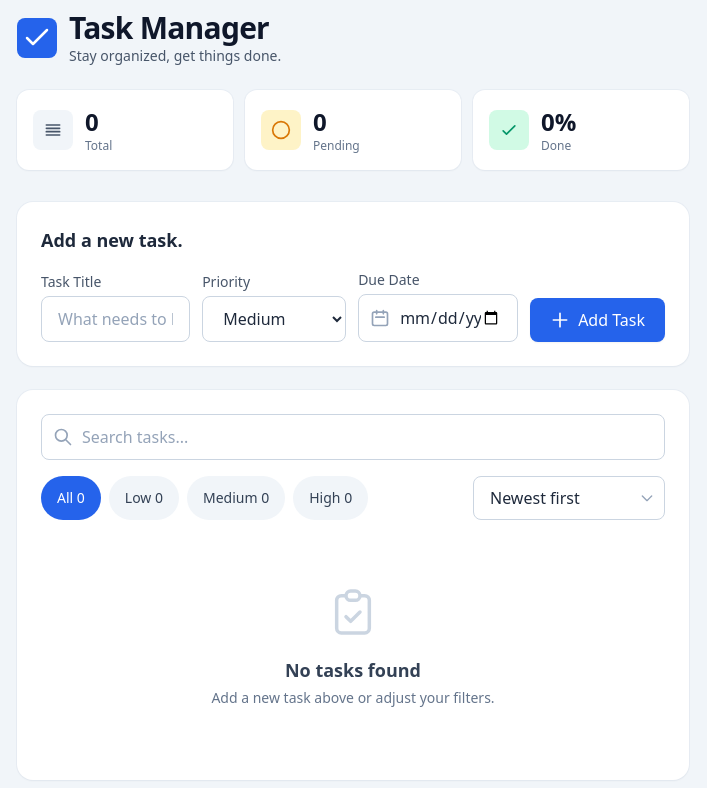
Test: App › adds a task and displays it
Type "My new task" into the field with placeholder "What needs to be done?" at (116, 319), box x1=41 y1=296 x2=190 y2=342
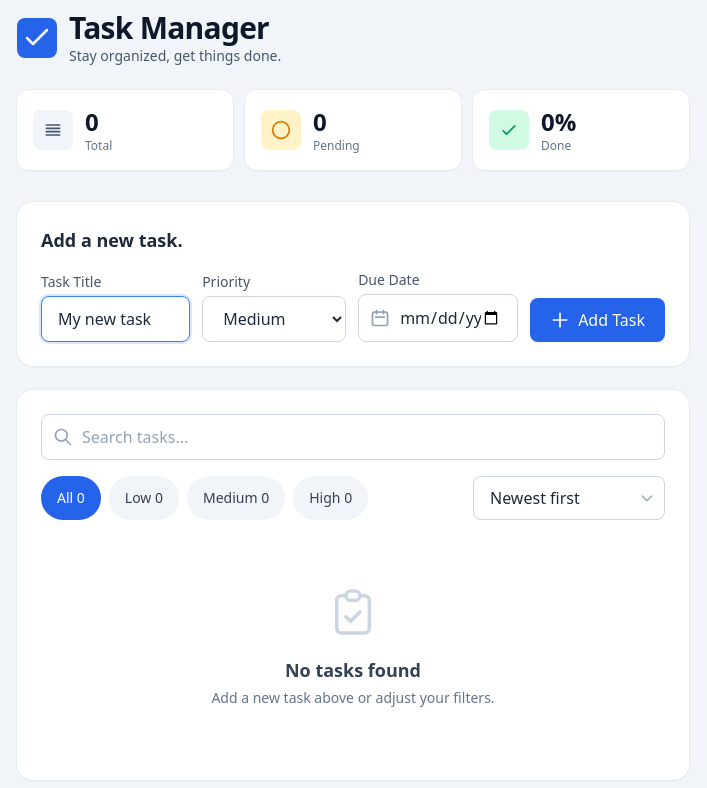
Click the button "Add Task" at (598, 320), box x1=530 y1=298 x2=665 y2=342
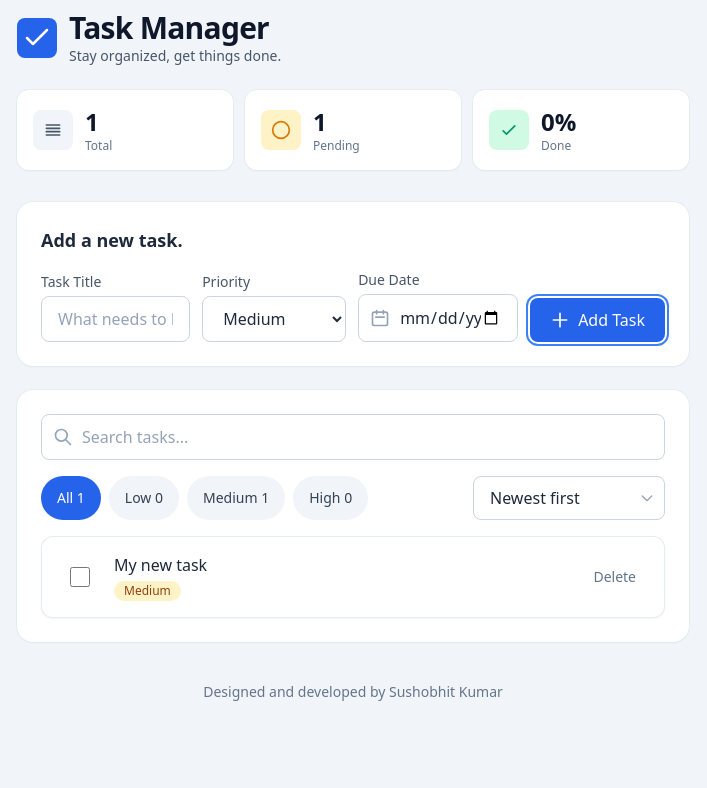
Now the text "My new task" is shown, box x1=114 y1=554 x2=207 y2=576
